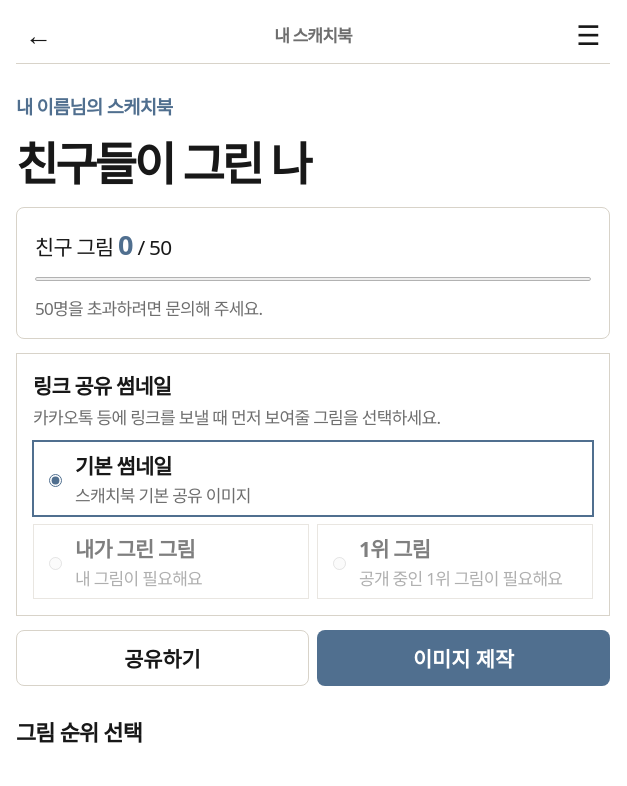
Test: ManageDashboard 친구 그림 추가 결제 › 링크 복사 성공 결과를 메뉴가 닫힌 뒤에도 화면에 알린다
Click the heading named "메뉴".
click(588, 34)  # box top-left (576, 16), bottom-right (600, 53)
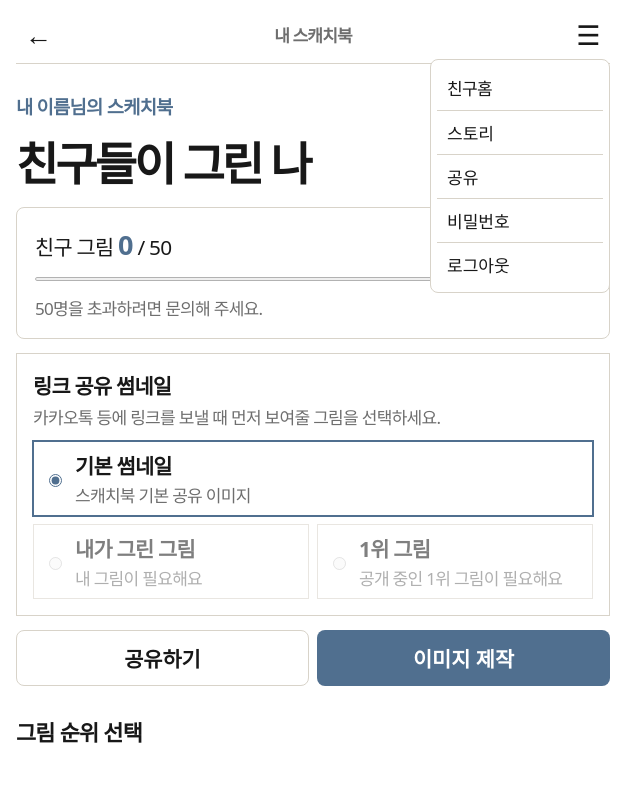
Click the button with aria-label "공유하기".
click(520, 176)  # box top-left (437, 154), bottom-right (603, 198)
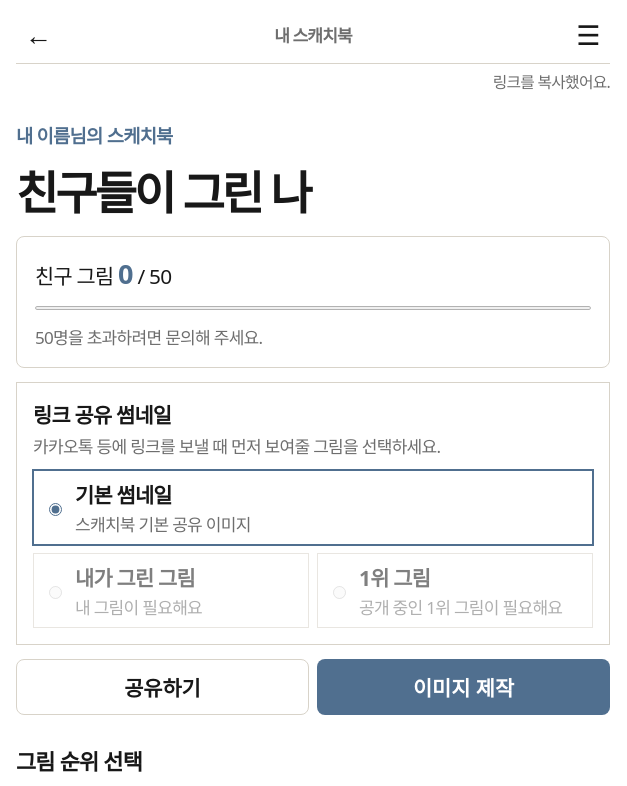
Result: the message reads "링크를 복사했어요." at top-left (493, 71), bottom-right (610, 93)
